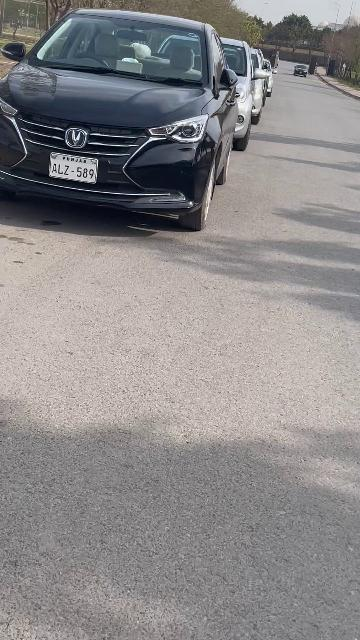plate: (50, 152, 98, 183)
